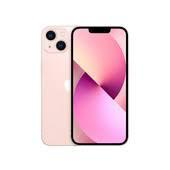Smartphone: (73, 27, 125, 147), (40, 27, 81, 148)
